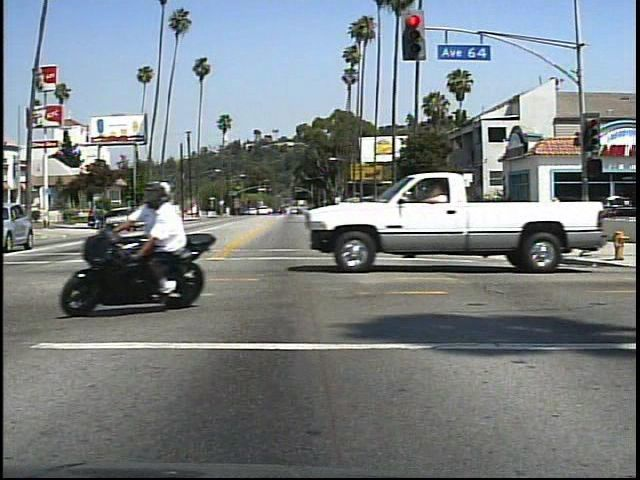person: (128, 177, 205, 308), (542, 193, 570, 246)
